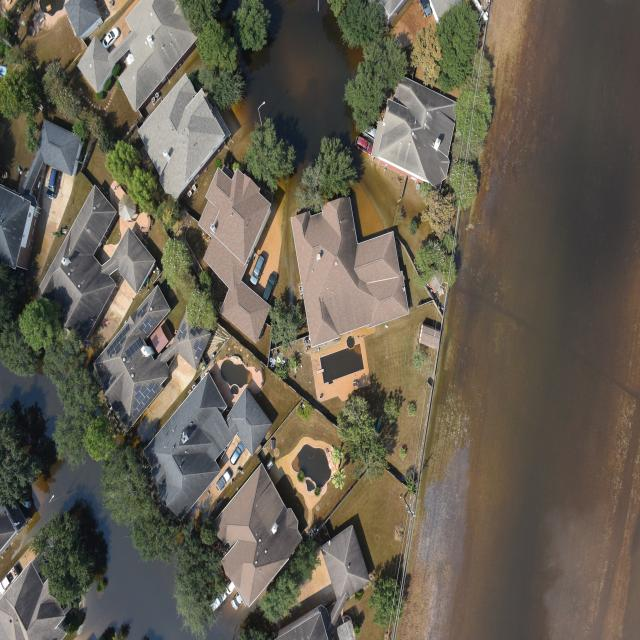fire: (399, 0, 640, 639), (0, 457, 191, 640), (241, 0, 363, 190), (0, 363, 60, 433), (209, 613, 239, 639)
